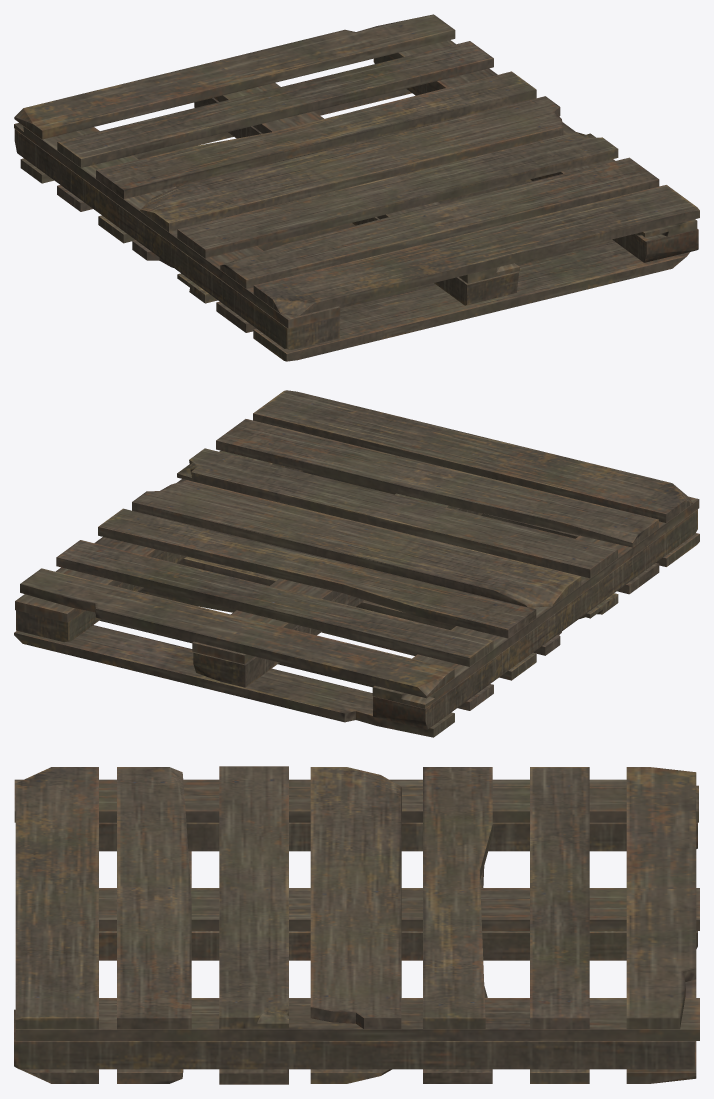
File: Wood_Palette.fbx
3 renders of one model, top to bottom at view 1: azimuth 30°, elevation 25°; view 2: azimuth 150°, elevation 25°; view 3: azimuth 270°, elevation 25°, orthographic. The views are drawn at different scales.
Visible parts, largest first — view 1: Wood_Palette_LOD0; view 2: Wood_Palette_LOD0; view 3: Wood_Palette_LOD0.
Part boxes in pixels (bbox=[...]): Wood_Palette_LOD0: bbox=[14, 14, 699, 361]; Wood_Palette_LOD0: bbox=[14, 390, 699, 737]; Wood_Palette_LOD0: bbox=[14, 766, 699, 1084].
Size of what is drawn, in the model's own units: 131 by 16.24 by 150.
